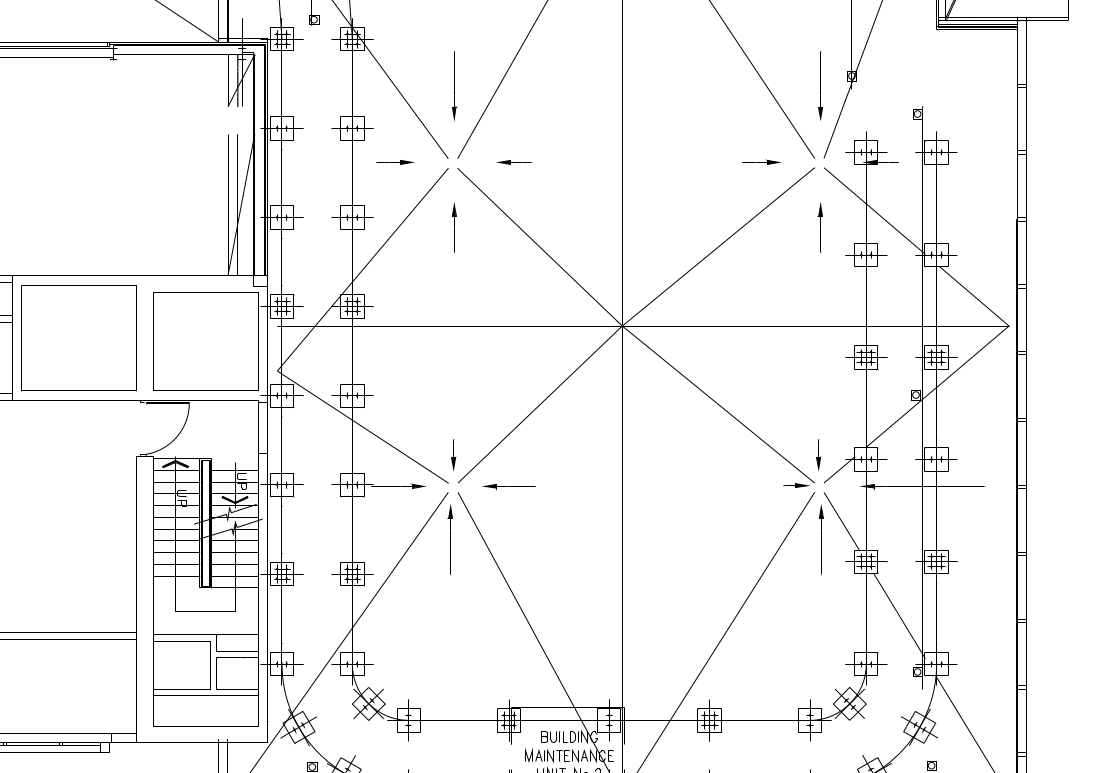door: (138, 401, 194, 455)
